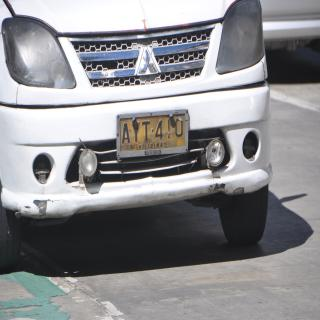license: (118, 111, 190, 159)
